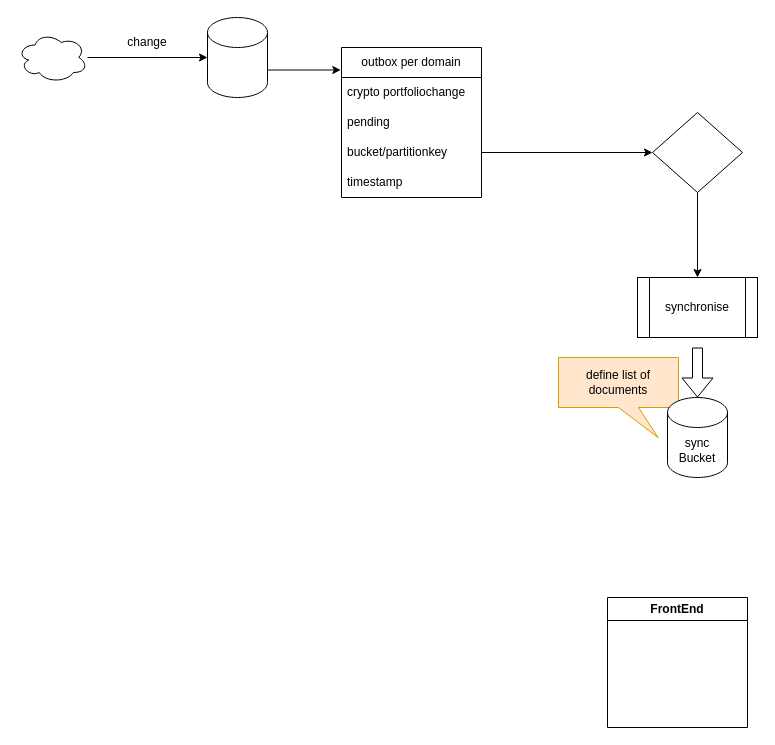
This 775x745 diagram has some shape labels left out. Each missing label, with the box of its shape:
HOST loop process: (652, 112, 742, 192)
SQL: (206, 16, 268, 98)
